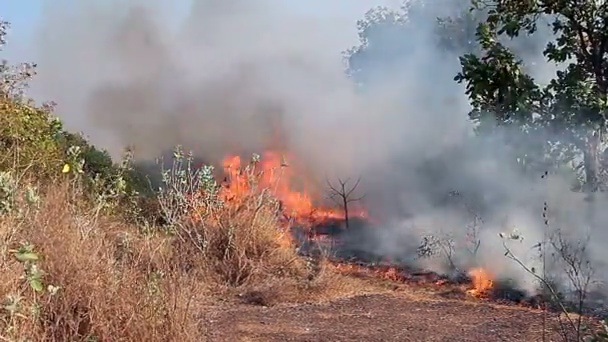fire: (284, 191, 313, 216), (467, 268, 493, 291), (319, 210, 338, 217)
